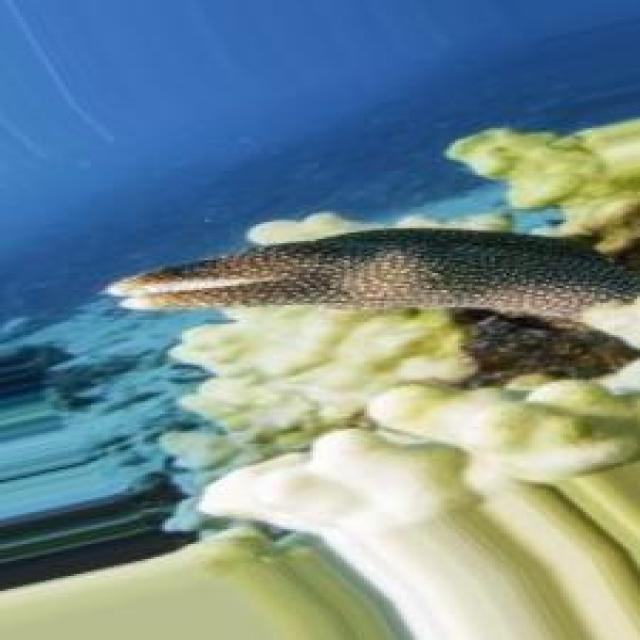Bleached: (109, 214, 638, 639)
